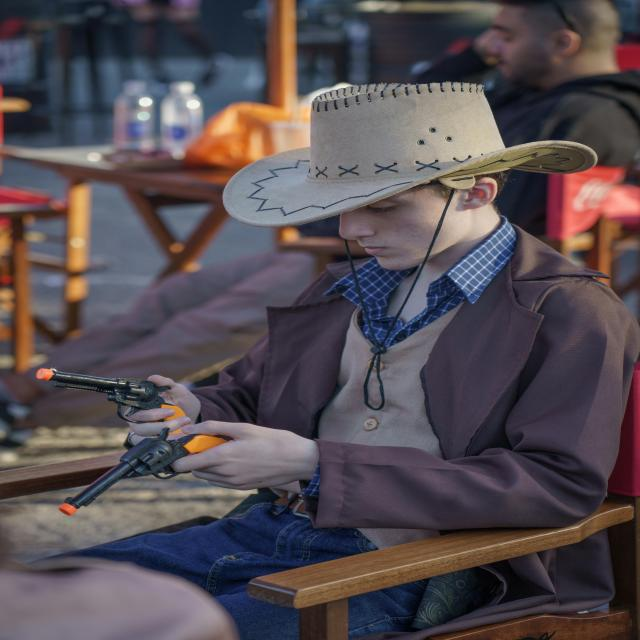sit: (56, 108, 594, 623)
